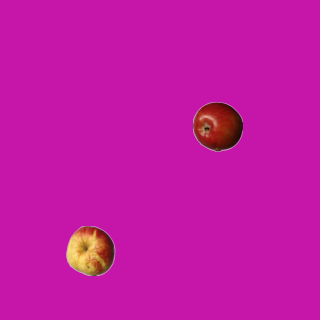Apple Braeburn: (192, 101, 242, 151)
Apple Red Yellow 1: (65, 225, 115, 275)
